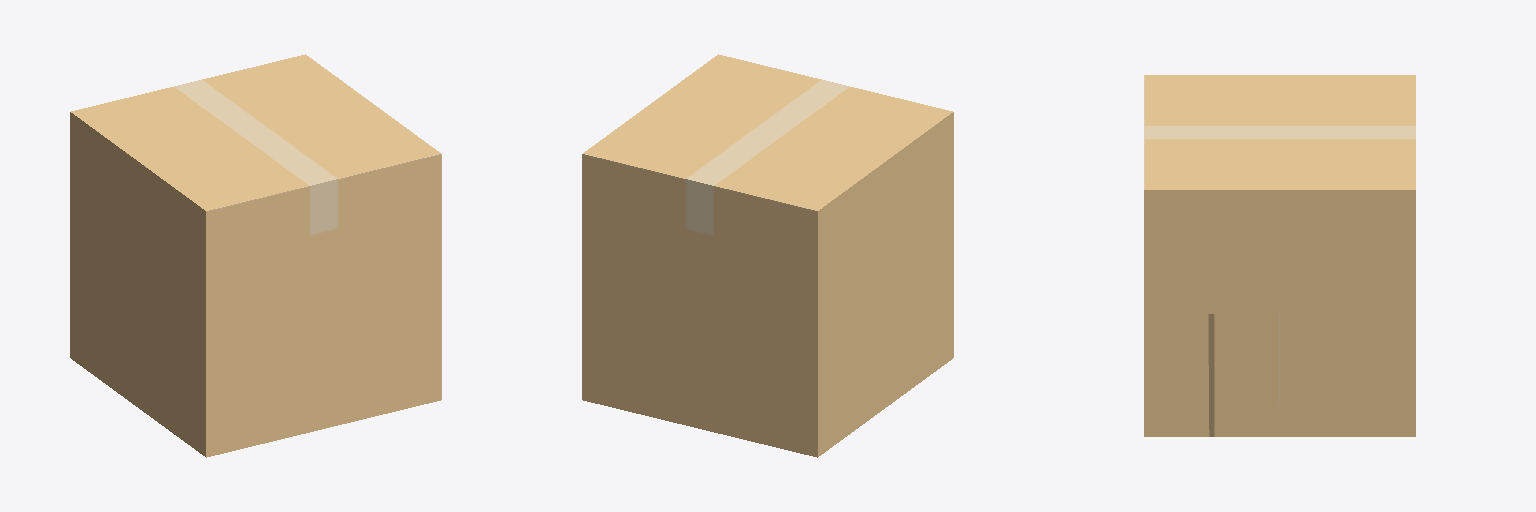
3 renders of one model, left to right at view 1: azimuth 30°, elevation 25°; view 2: azimuth 150°, elevation 25°; view 3: azimuth 270°, elevation 25°, orthographic.
Visible parts, largest first — view 1: Cube; view 2: Cube; view 3: Cube.
Part boxes in pixels (left/top/right/bottom): Cube: left=70, top=54, right=441, bottom=457; Cube: left=582, top=54, right=953, bottom=457; Cube: left=1144, top=75, right=1415, bottom=436.
Bounding box in the file's own units: 1 × 1 × 1.
Materials: 1 (1 with a texture image).